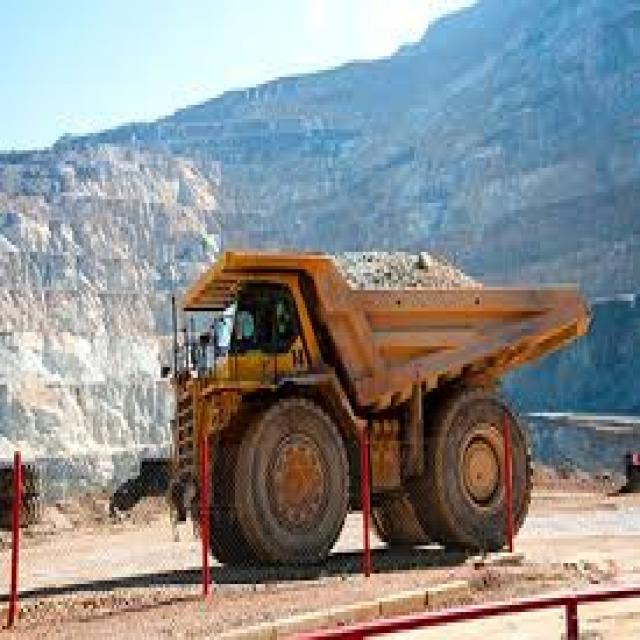dump_truck: (153, 231, 608, 584)
